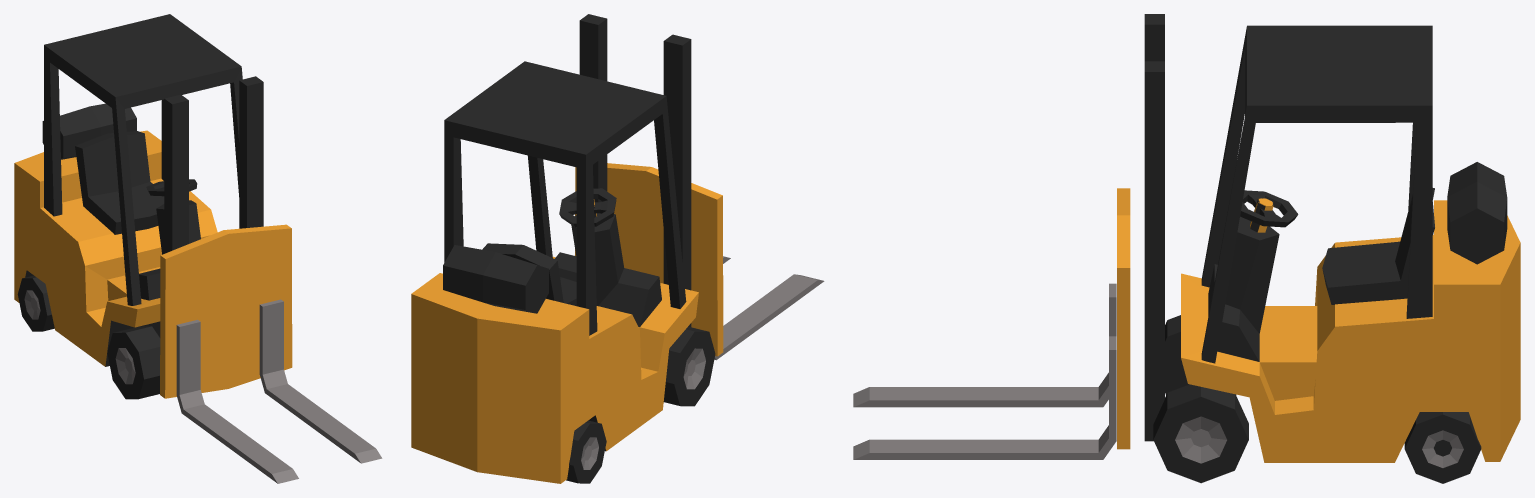
File: forklift.glb
3 renders of one model, left to right at view 1: azimuth 30°, elevation 25°; view 2: azimuth 150°, elevation 25°; view 3: azimuth 270°, elevation 25°, orthographic. The views are drawn at different scales.
Parts seen in each view (by area): view 1: forklift-base, lift, forklift-wheel_FR, forklift-wheel_BR; view 2: forklift-base, lift, forklift-wheel_FR, forklift-wheel_BR; view 3: forklift-base, lift, forklift-wheel_FL, forklift-wheel_BL, forklift-wheel_FR.
Boxes of the visible parts, left/top/right/bottom form: forklift-base: left=14, top=14, right=263, bottom=366; lift: left=160, top=224, right=382, bottom=483; forklift-wheel_FR: left=107, top=326, right=160, bottom=399; forklift-wheel_BR: left=17, top=275, right=54, bottom=331; forklift-base: left=411, top=14, right=698, bottom=483; lift: left=575, top=163, right=824, bottom=360; forklift-wheel_FR: left=663, top=326, right=715, bottom=406; forklift-wheel_BR: left=566, top=420, right=606, bottom=483; forklift-base: left=1144, top=14, right=1520, bottom=462; lift: left=853, top=188, right=1130, bottom=459; forklift-wheel_FL: left=1153, top=384, right=1248, bottom=483; forklift-wheel_BL: left=1404, top=412, right=1481, bottom=483; forklift-wheel_FR: left=1165, top=315, right=1188, bottom=394.
Bounding box in the file's own units: 1.14 × 2.36 × 3.6.
1 material, 1 textured.
